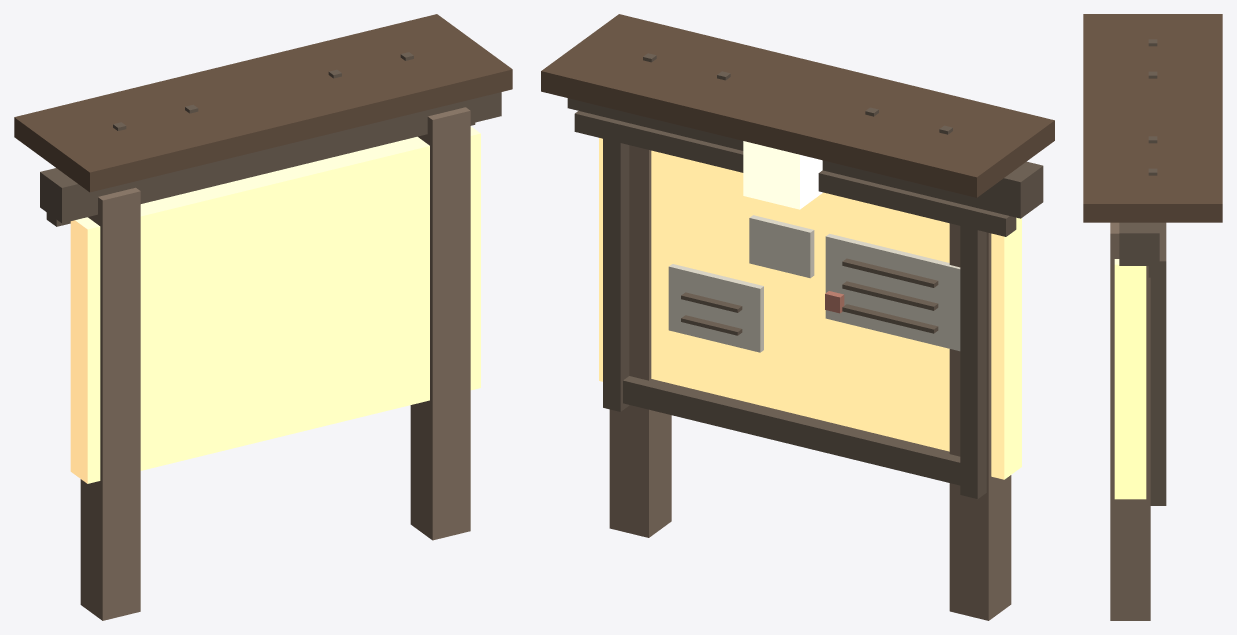
The model's file is jobBoard_max.glb.
The picture shows the model from 3 angles, left to right: view 1: azimuth 30°, elevation 25°; view 2: azimuth 150°, elevation 25°; view 3: azimuth 270°, elevation 25°; orthographic projection. The views are drawn at different scales.
Visible parts, largest first — view 1: jobBoard_max; view 2: jobBoard_max; view 3: jobBoard_max.
Boxes of the visible parts, bbox=[...] form: jobBoard_max: bbox=[14, 14, 512, 620]; jobBoard_max: bbox=[541, 14, 1054, 620]; jobBoard_max: bbox=[1083, 14, 1222, 620].
Size of the model in its own units: 2.08 by 2.12 by 0.62.
